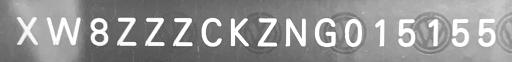letter: (44, 14, 82, 46), (14, 14, 40, 46), (282, 16, 308, 48), (170, 15, 194, 49), (228, 15, 252, 47), (114, 15, 138, 47), (200, 15, 224, 47), (255, 16, 279, 48), (395, 16, 417, 50), (143, 15, 167, 46), (313, 16, 337, 47), (88, 15, 110, 47), (476, 16, 498, 46), (344, 16, 364, 49), (450, 16, 470, 47), (370, 14, 388, 48), (426, 16, 440, 49)
